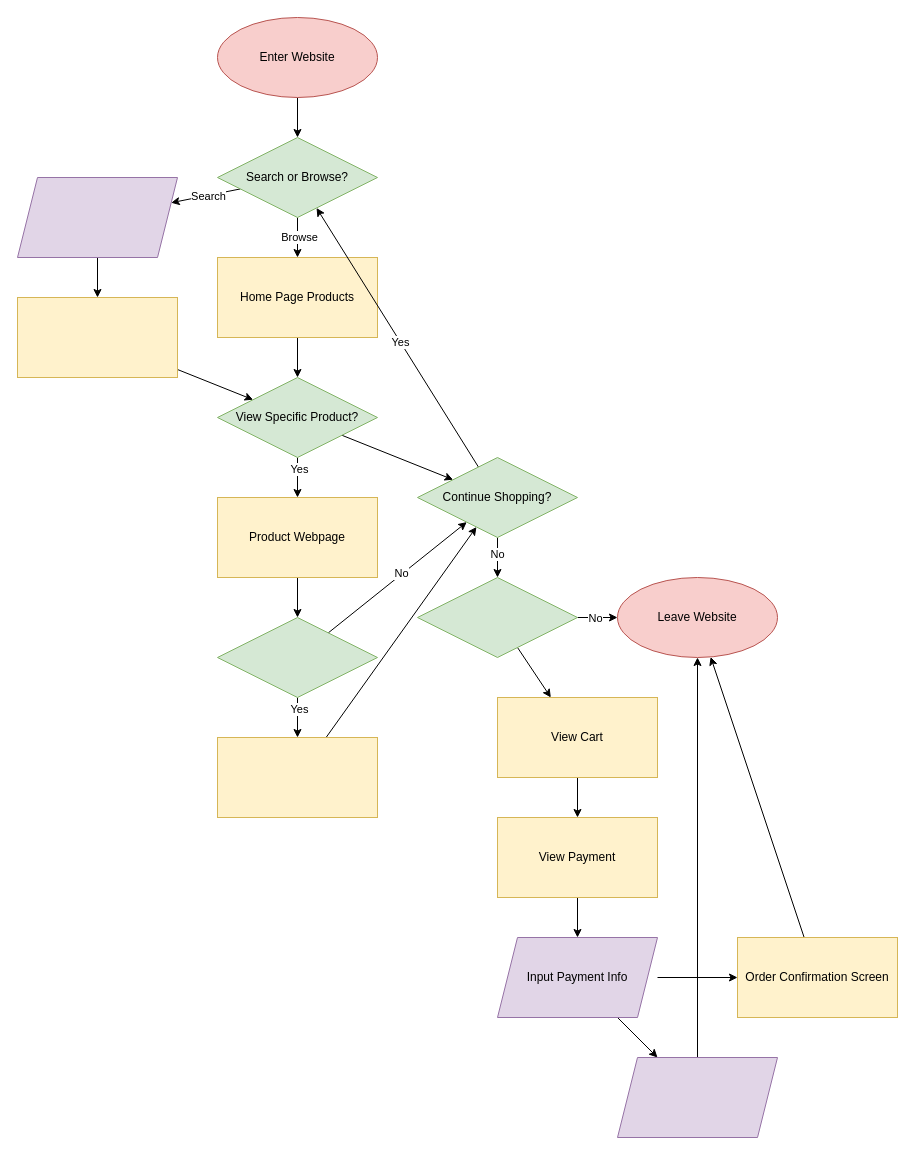
Image size: 915x1155. Some labels were removed from this diagram. Each missing label, with the centre of its shape:
Add to Cart?: [297,657]
Added to Cart Confirmation: [297,777]
Checkout?: [497,617]
Recieve Email: [697,1097]
Search Input: [97,217]
Search Results: [97,337]
